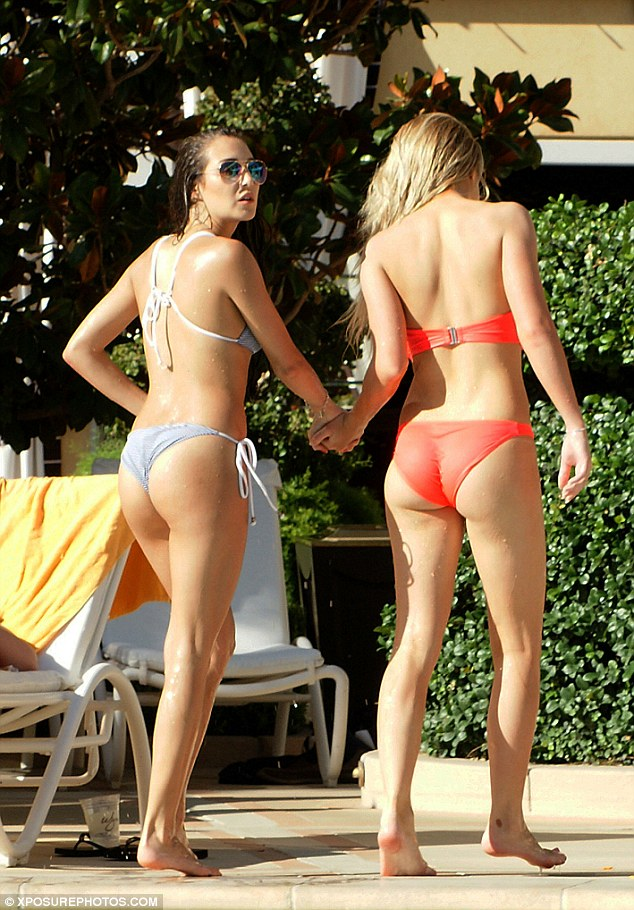Person: (299, 103, 601, 902), (73, 118, 354, 878)
